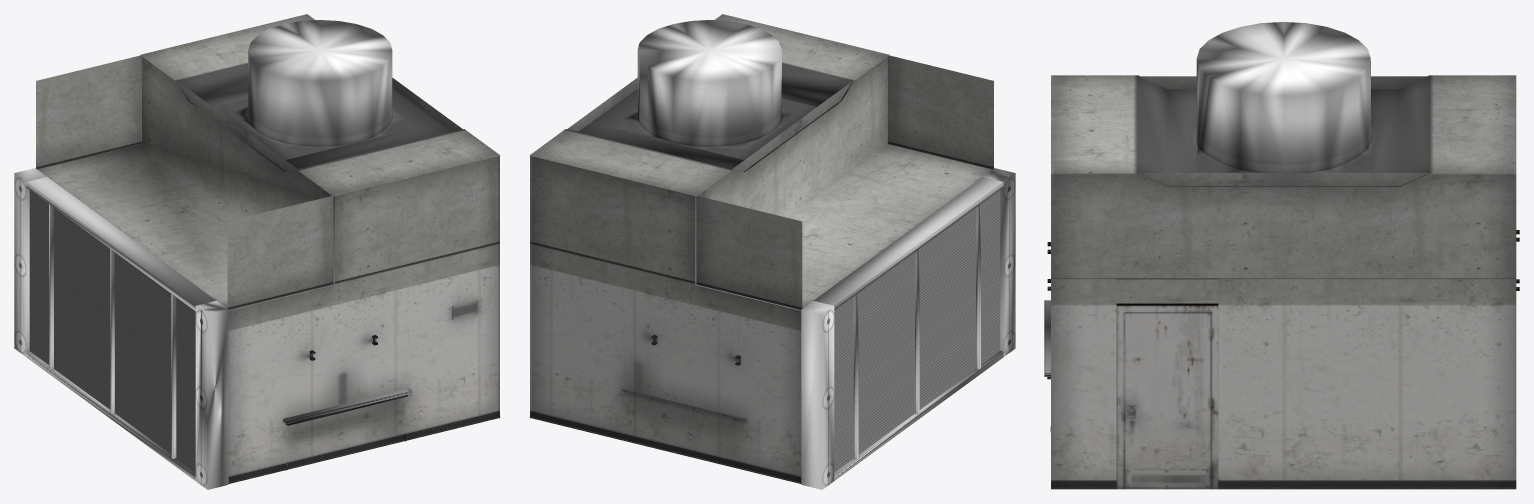
Rendered from obroom_256.obj.
The picture shows the model from 3 angles, left to right: view 1: azimuth 30°, elevation 25°; view 2: azimuth 150°, elevation 25°; view 3: azimuth 270°, elevation 25°; orthographic projection. The views are drawn at different scales.
Parts seen in each view (by area): view 1: obroom_256_1.mdl/obroom_256_1.smd, refract01_dx8.002; view 2: obroom_256_1.mdl/obroom_256_1.smd, refract01_dx8.002; view 3: obroom_256_1.mdl/obroom_256_1.smd.
Part boxes in pixels (x1=…): obroom_256_1.mdl/obroom_256_1.smd: x1=14, y1=14, x2=500, y2=489; refract01_dx8.002: x1=29, y1=190, x2=195, y2=471; obroom_256_1.mdl/obroom_256_1.smd: x1=529, y1=14, x2=1015, y2=489; refract01_dx8.002: x1=834, y1=190, x2=1000, y2=471; obroom_256_1.mdl/obroom_256_1.smd: x1=1044, y1=22, x2=1519, y2=489.
Size of the model in its own units: 3.5 by 3.62 by 4.09.
